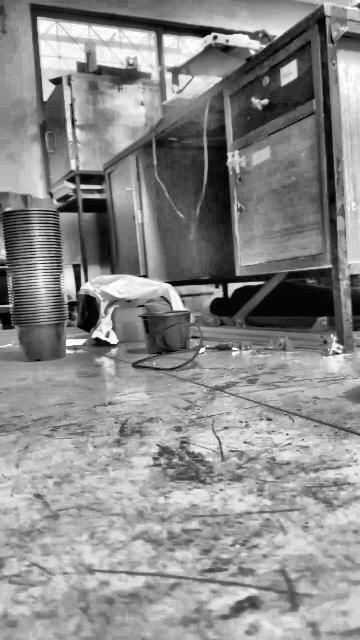pot: (141, 311, 192, 352)
